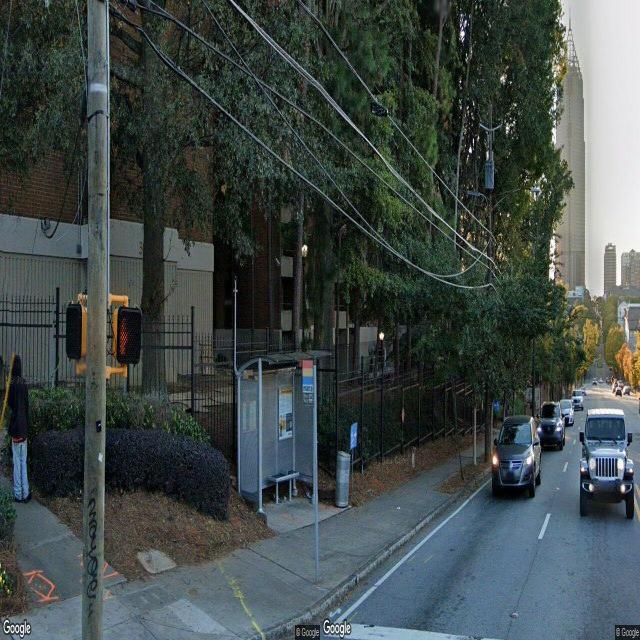seating: (268, 466, 300, 506)
shelter: (234, 354, 330, 511)
trash_can: (336, 450, 350, 508)
